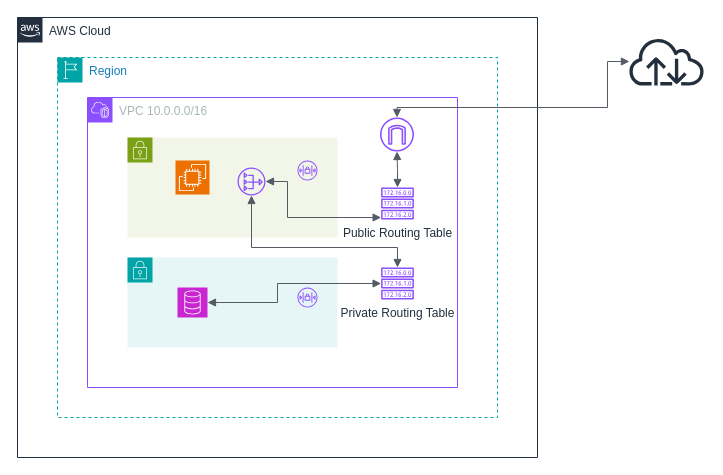
Some shapes in this 723 by 475 pixel diagram are drawn without their labels. Each missing label, with the box of its shape:
Private subnet 10.0.2.0/24: (126, 256, 338, 348)
Public subnet 10.0.1.0/24: (126, 136, 338, 238)
